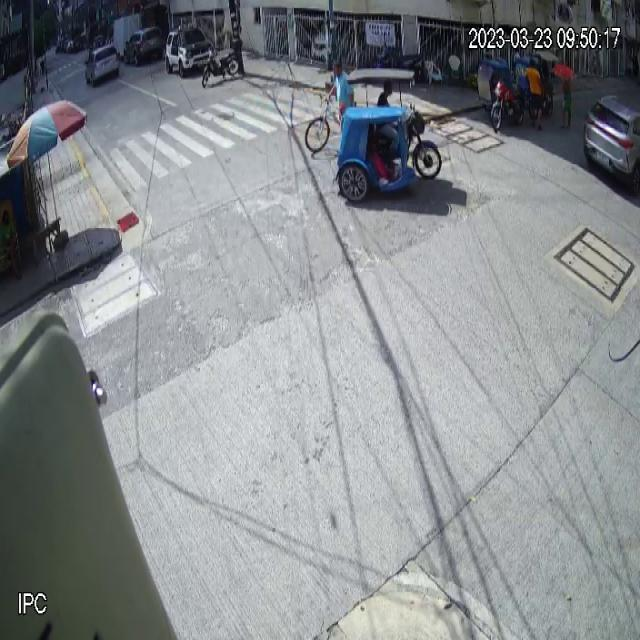Tricycle: (332, 67, 443, 203), (476, 55, 526, 133)
